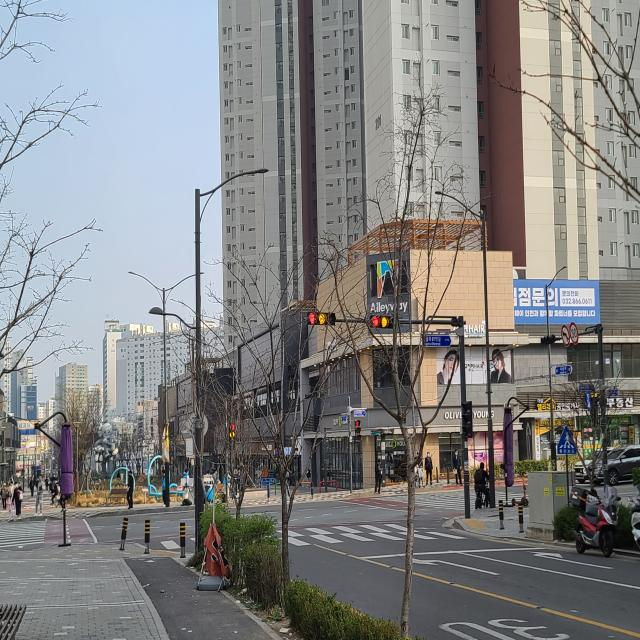Red Light: (308, 312, 318, 324), (370, 316, 380, 328)
Yellow Light: (318, 312, 327, 325), (380, 315, 389, 328)
